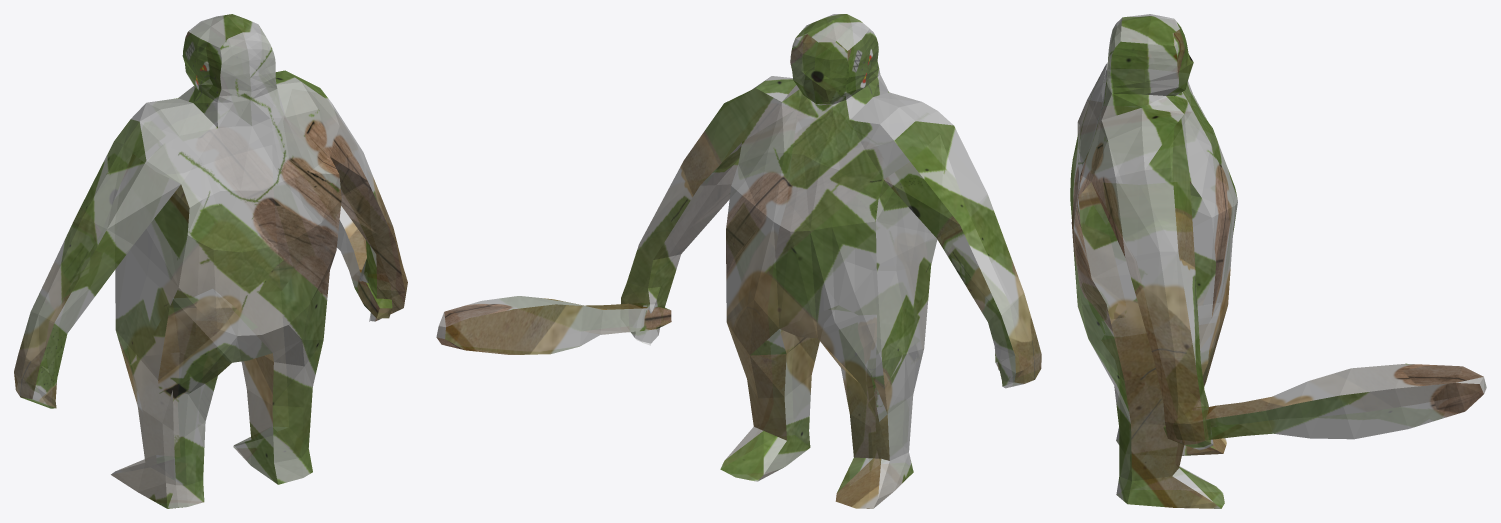
File: Enemigo228.obj
The picture shows the model from 3 angles, left to right: view 1: azimuth 30°, elevation 25°; view 2: azimuth 150°, elevation 25°; view 3: azimuth 270°, elevation 25°; orthographic projection. The views are drawn at different scales.
Visible parts, largest first — view 1: Cube; view 2: Cube; view 3: Cube.
Boxes of the visible parts, x1,y1,x2,y2 form: Cube: (14, 14, 407, 508); Cube: (436, 14, 1041, 508); Cube: (1070, 14, 1486, 508).
Bounding box in the file's own units: 2.78 × 2.71 × 2.23.
Materials: 1 (1 with a texture image).
